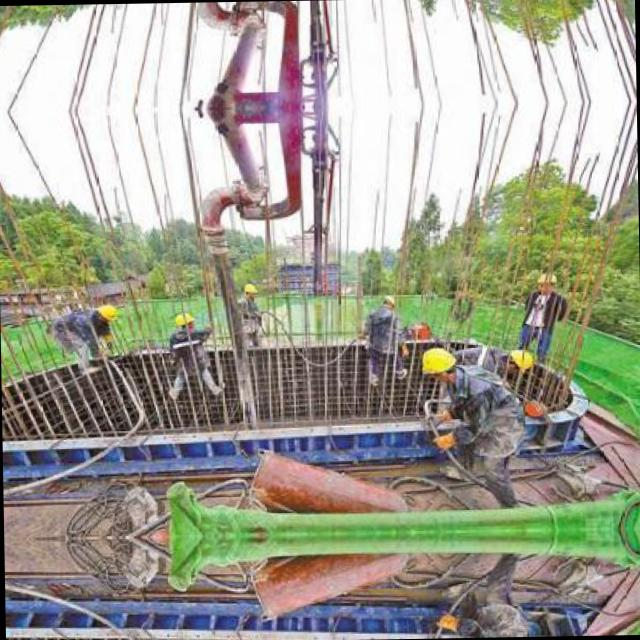helmet: (418, 346, 458, 384), (498, 344, 537, 374), (92, 299, 117, 327), (173, 308, 196, 331), (534, 269, 557, 292), (240, 280, 256, 300), (382, 289, 396, 309)
